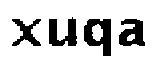a: (116, 15, 148, 51)
q: (82, 13, 115, 60)
u: (45, 14, 78, 52)
x: (8, 17, 43, 47)
